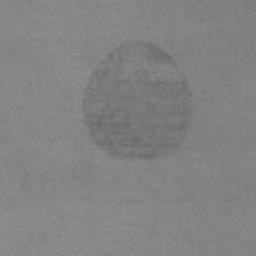Oil spot: (82, 40, 193, 163)
